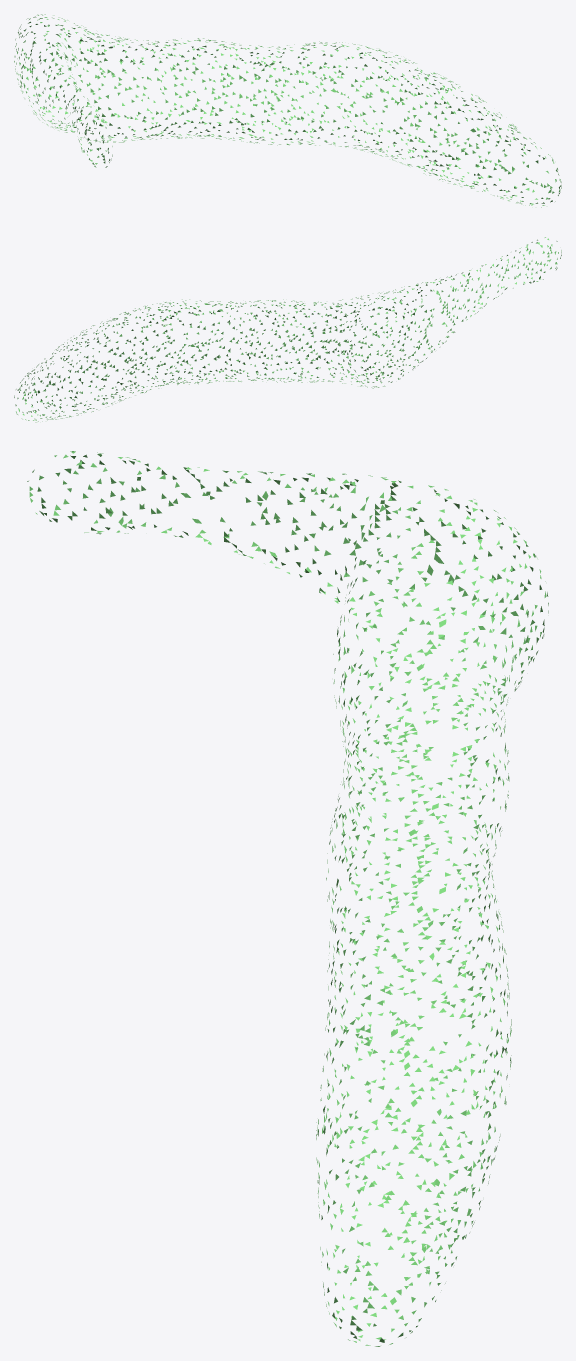
File: morph_017.glb
3 views of the same model, one above another, from view 1: azimuth 30°, elevation 25°; view 2: azimuth 150°, elevation 25°; view 3: azimuth 270°, elevation 25° (orthographic). The views are drawn at different scales.
Bounding box in the file's own units: 115 × 56.37 × 56.36.
